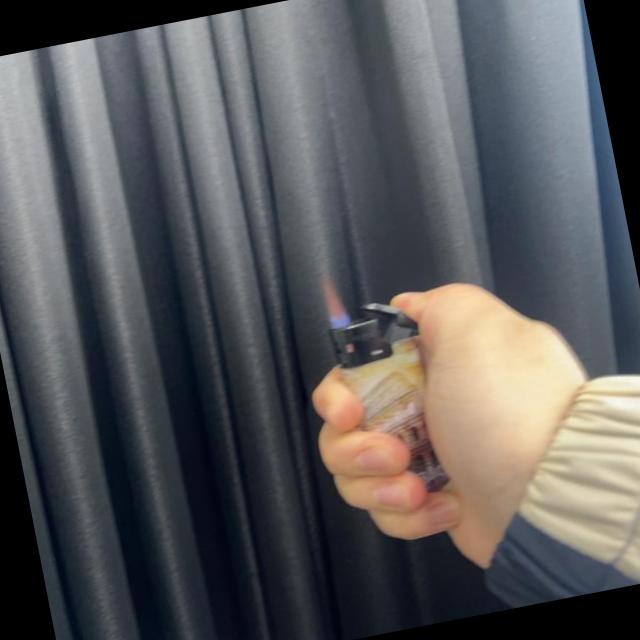Fire: (317, 269, 352, 331)
